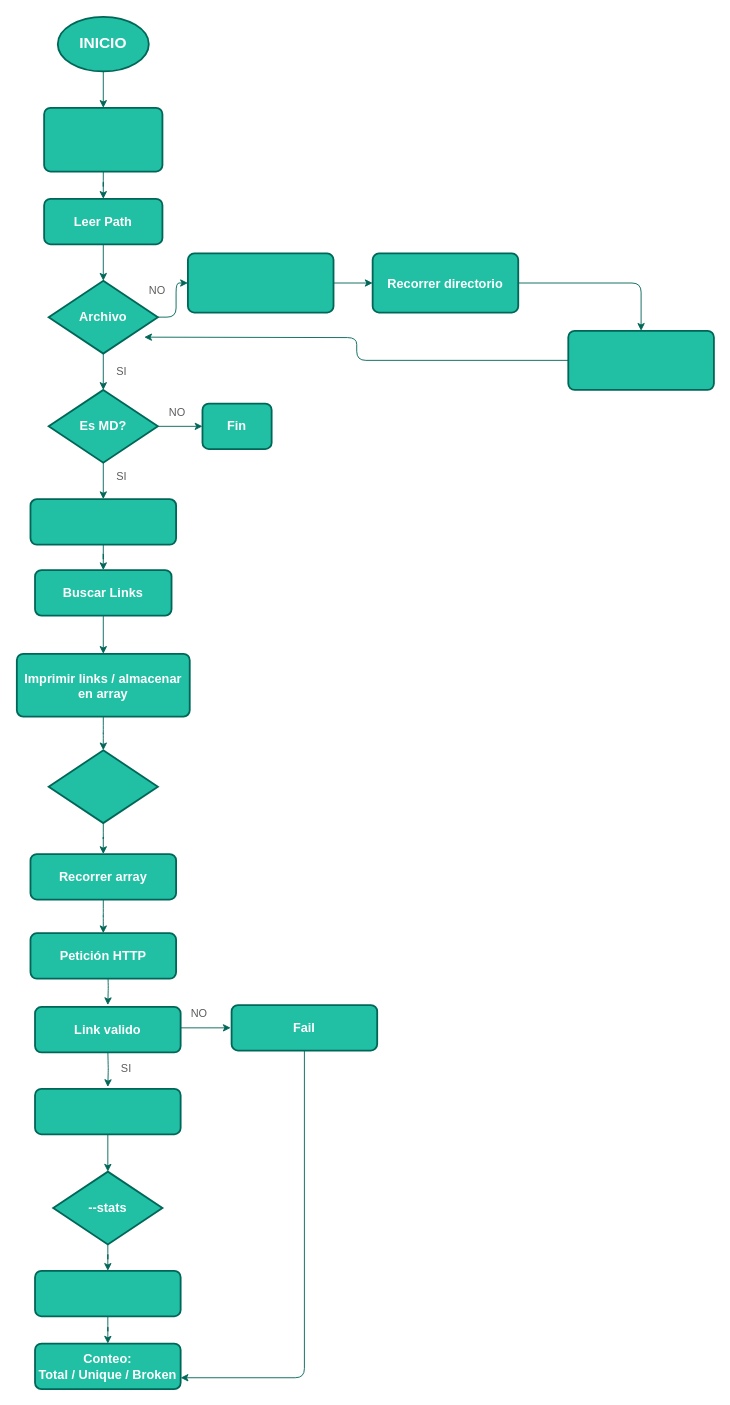
This 730x1405 diagram has some shape labels left out. Each missing label, with the centre of its shape:
"--validate" belongs at point 102,786.
"Buscar archivos" belongs at point 640,359.
"Leer archivo .md" belongs at point 103,521.
"Leer directorio/carpeta" belongs at point 260,282.
"MD - Links Path - Option" belongs at point 103,139.
"OK" belongs at point 107,1111.
"Resultados" belongs at point 107,1293.
